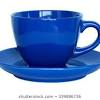cup: (10, 9, 100, 69)
